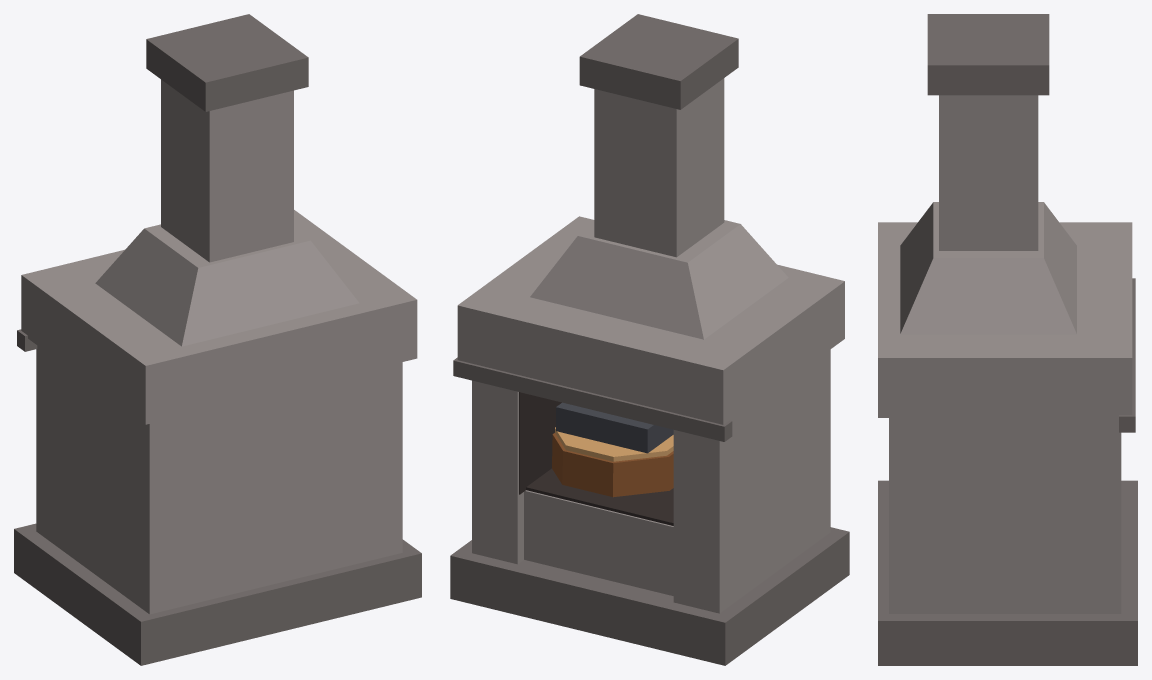
File: shared_forge.fbx
The picture shows the model from 3 angles, left to right: view 1: azimuth 30°, elevation 25°; view 2: azimuth 150°, elevation 25°; view 3: azimuth 270°, elevation 25°; orthographic projection. The views are drawn at different scales.
Parts seen in each view (by area): view 1: Furnace.Body, Furnace.Trim; view 2: Furnace.Body, Furnace.Trim, Furnace.Soot, Anvil.Stump, Anvil.Body, Anvil.StumpTop; view 3: Furnace.Body, Furnace.Trim.
Boxes of the visible parts, x1,y1,x2,y2 form: Furnace.Body: (21,79,417,614); Furnace.Trim: (14,14,421,665); Furnace.Body: (457,78,844,613); Furnace.Trim: (450,14,849,665); Furnace.Soot: (519,392,673,525); Anvil.Stump: (552,433,673,497); Anvil.Body: (556,402,673,453); Anvil.StumpTop: (555,427,673,461); Furnace.Body: (878,95,1132,613); Furnace.Trim: (878,14,1137,665).
Bounding box in the file's own units: 3 × 5.55 × 2.35.
